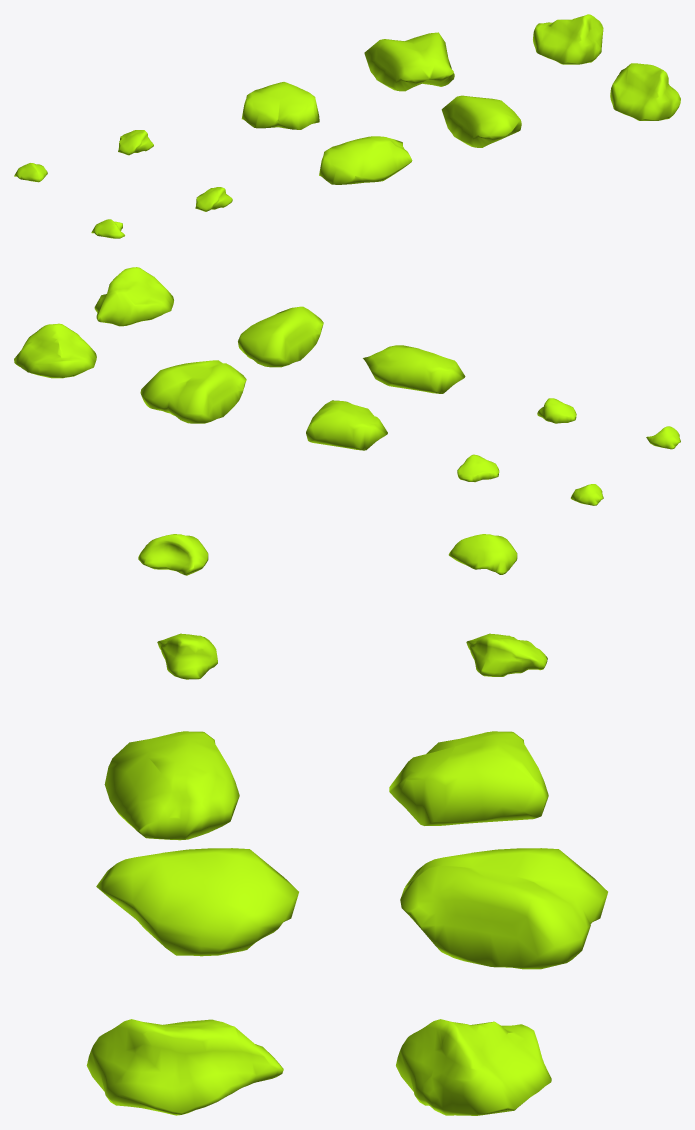
The model's file is RiverRock.FBX.
3 renders of one model, top to bottom at view 1: azimuth 30°, elevation 25°; view 2: azimuth 150°, elevation 25°; view 3: azimuth 270°, elevation 25°, orthographic. The views are drawn at different scales.
Visible parts, largest first — view 1: Plane007, Plane003, Plane002, Plane001, Plane006, Plane010, Plane008, Plane005, Plane004, Plane009; view 2: Plane007, Plane001, Plane003, Plane002, Plane010, Plane006, Plane008, Plane005, Plane009, Plane004; view 3: Plane007, Plane001, Plane002, Plane010, Plane006, Plane003, Plane008, Plane004, Plane005, Plane009.
Boxes of the visible parts, bbox=[...] form: Plane007: bbox=[364, 32, 454, 91]; Plane003: bbox=[319, 136, 412, 184]; Plane002: bbox=[610, 63, 680, 120]; Plane001: bbox=[441, 95, 521, 147]; Plane006: bbox=[241, 82, 319, 129]; Plane010: bbox=[533, 14, 603, 64]; Plane008: bbox=[118, 130, 153, 155]; Plane005: bbox=[195, 187, 232, 211]; Plane004: bbox=[91, 219, 124, 238]; Plane009: bbox=[14, 163, 47, 182]; Plane007: bbox=[140, 360, 246, 423]; Plane001: bbox=[238, 306, 323, 367]; Plane003: bbox=[363, 345, 465, 393]; Plane002: bbox=[94, 267, 173, 326]; Plane010: bbox=[14, 323, 96, 378]; Plane006: bbox=[306, 400, 387, 450]; Plane008: bbox=[457, 454, 499, 482]; Plane005: bbox=[537, 398, 576, 423]; Plane009: bbox=[570, 484, 603, 505]; Plane004: bbox=[646, 426, 680, 449]; Plane007: bbox=[400, 848, 607, 969]; Plane001: bbox=[96, 848, 298, 956]; Plane002: bbox=[86, 1019, 283, 1115]; Plane010: bbox=[396, 1019, 551, 1115]; Plane006: bbox=[389, 731, 548, 825]; Plane003: bbox=[104, 731, 239, 840]; Plane008: bbox=[466, 633, 547, 676]; Plane004: bbox=[138, 534, 208, 575]; Plane005: bbox=[157, 633, 217, 679]; Plane009: bbox=[448, 534, 517, 574].
Size of the model in its own units: 2892 by 199 by 1118.
